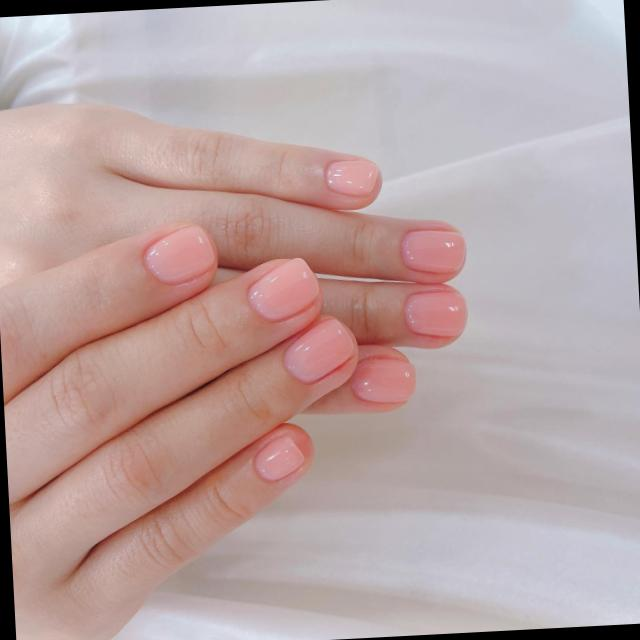Nail: (283, 317, 355, 382), (247, 257, 319, 321), (144, 224, 215, 284), (352, 357, 416, 402), (405, 290, 467, 335), (402, 229, 465, 272), (255, 436, 305, 480), (326, 160, 379, 196)
